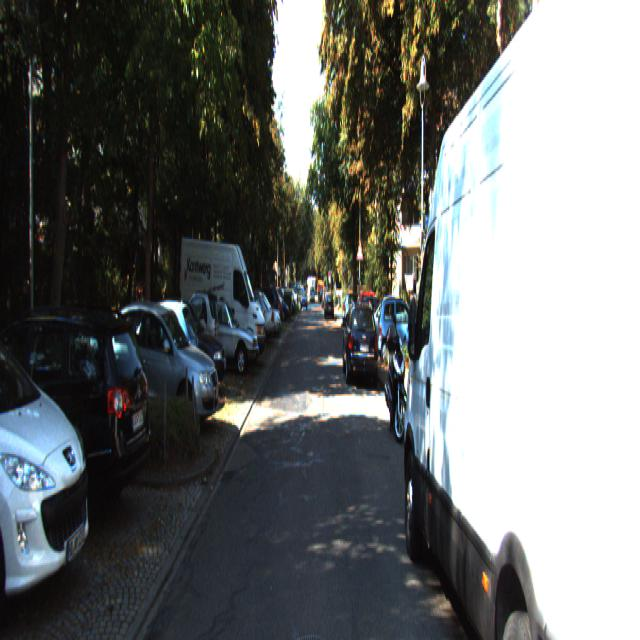Car: (401, 0, 639, 639), (0, 298, 154, 538), (0, 269, 96, 634), (93, 293, 221, 437), (178, 238, 267, 380), (185, 297, 260, 381), (384, 318, 411, 450), (376, 295, 424, 362), (343, 304, 379, 391)
